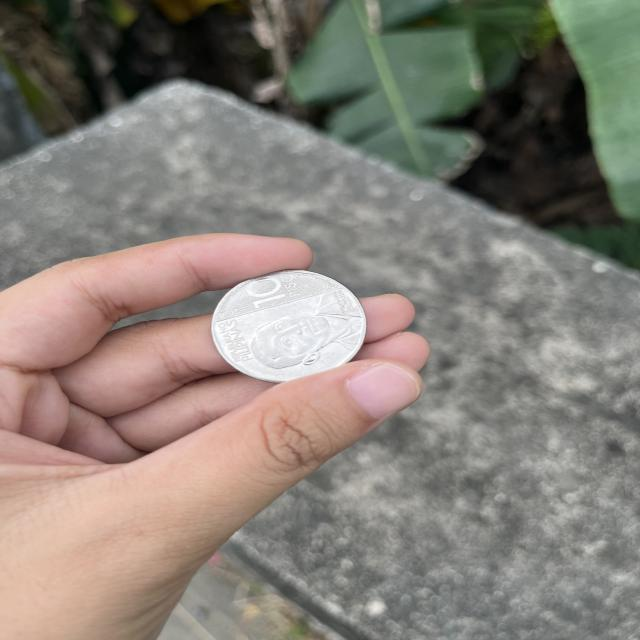10_New_Front: (238, 268, 300, 315)
